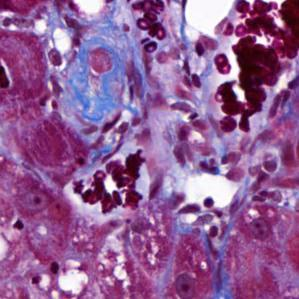inflammation: (177, 195, 214, 220), (44, 45, 69, 70)
